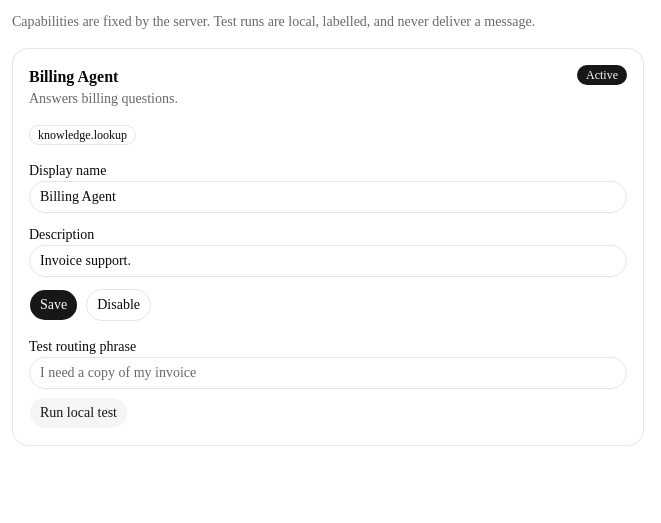
Test: AgentList › renders specialist capabilities accessibly and runs a labelled local test
Expected: the heading "Billing Agent" is shown, [29, 68, 118, 85]
Type "Send my invoice" into the field labelled "Test routing phrase" at (328, 373), box [29, 357, 627, 389]
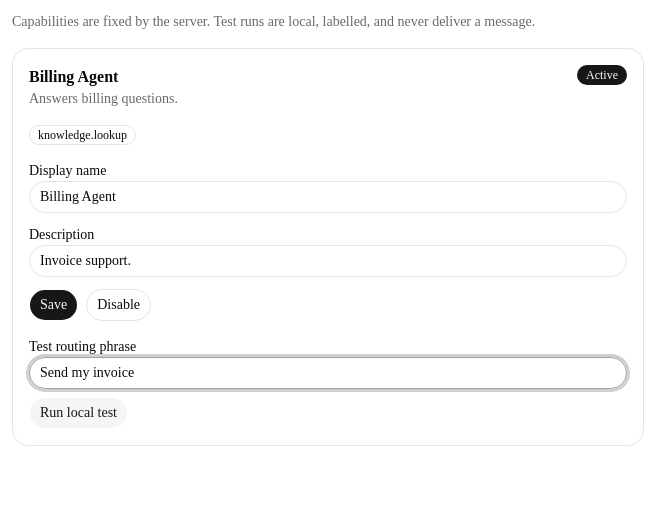
Click the button "Run local test" at (78, 413), box [29, 397, 128, 429]
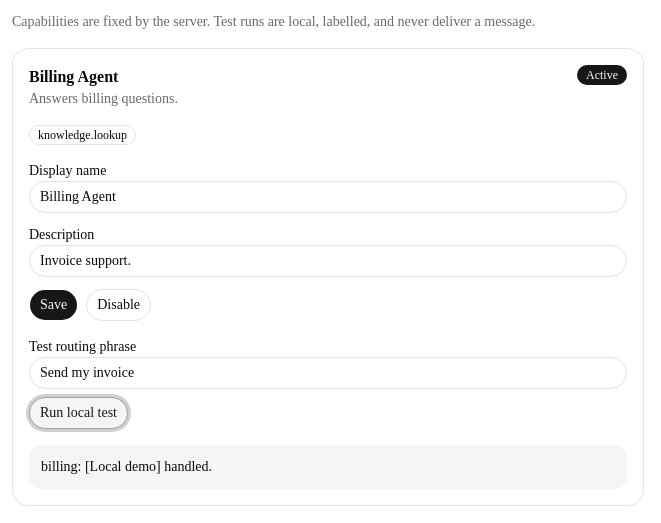
Now the message reads "billing: [Local demo] handled.", box [41, 459, 212, 474]
